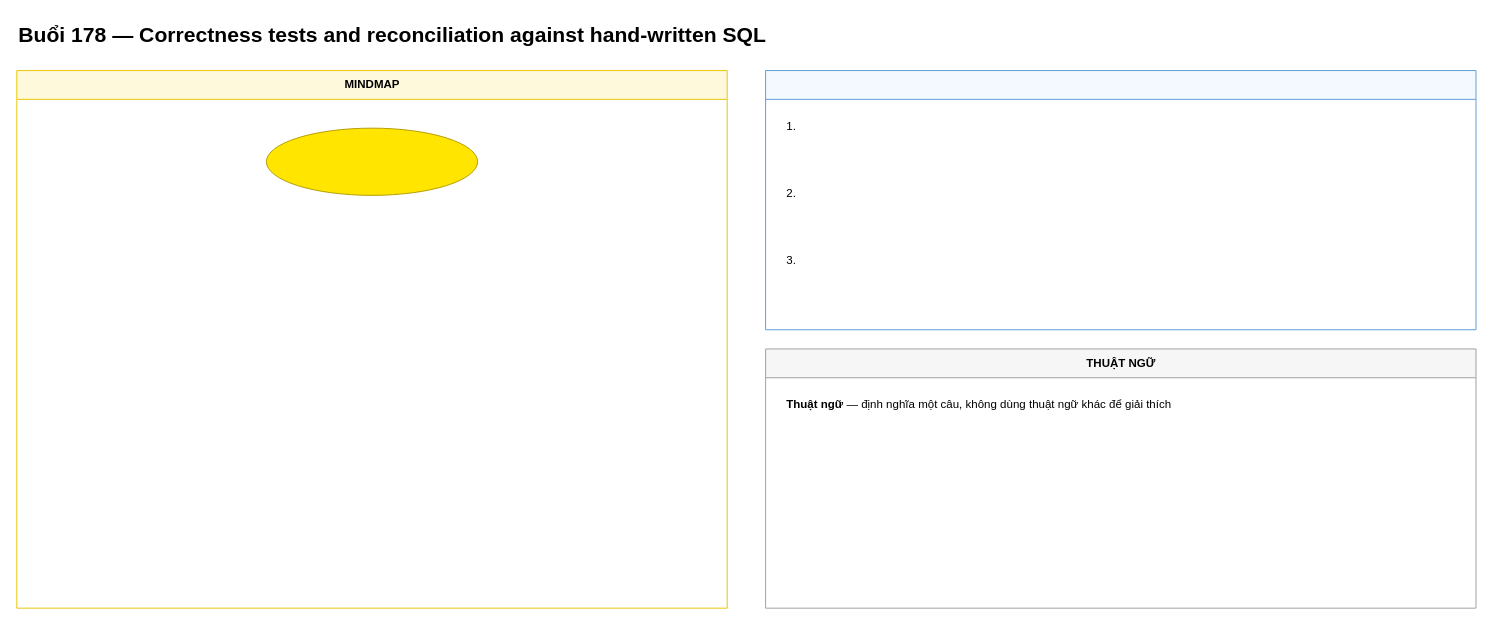
Some shapes in this 1493 by 625 pixel diagram are drawn without their labels. Here are the shapes that lost their labels. From the top down, the box of each, then its label:
(265, 127, 478, 195): Correctness tests and reconciliation against hand-written SQL
(765, 70, 1476, 330): KEY TAKEAWAY — ba điều phải nhớ
